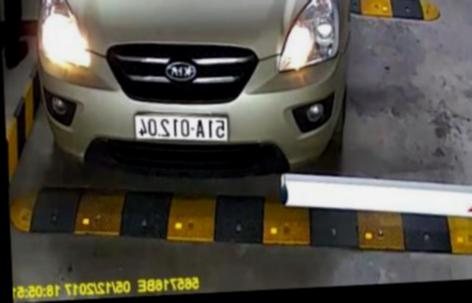License_Plate: (124, 108, 238, 154)
